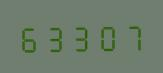seven: (118, 19, 142, 51)
six: (18, 21, 42, 53)
three: (43, 20, 67, 53), (68, 20, 92, 52)
zero: (93, 19, 117, 52)
